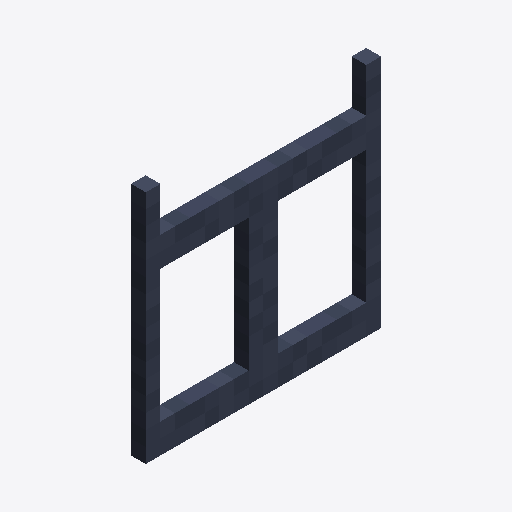
Isometric view (azimuth 45°, elevation 35.3°) of a Minecraft model made of 8 cuboids, textured from the same repository.
Visible parts, largest first — side post (×2), top bar (×2), bottom bar (×2), side bar (×2).
Boxes of the visible parts, x1=… form: side post (×2): x1=131, y1=48, x2=380, y2=463; top bar (×2): x1=160, y1=107, x2=365, y2=268; bottom bar (×2): x1=160, y1=294, x2=365, y2=454; side bar (×2): x1=234, y1=201, x2=277, y2=370.
Bounding box in the file's own units: 16 × 16 × 1.